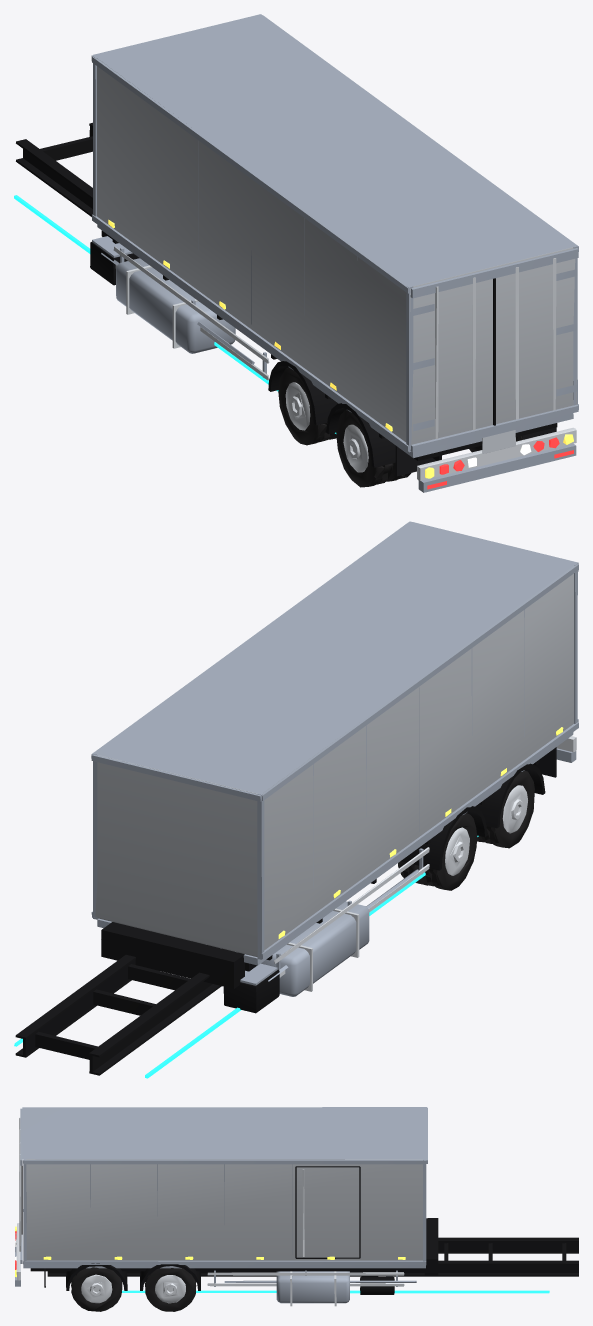
File: body_alubox_lod1.glb
3 renders of one model, top to bottom at view 1: azimuth 30°, elevation 25°; view 2: azimuth 150°, elevation 25°; view 3: azimuth 270°, elevation 25°, orthographic. The views are drawn at different scales.
Visible parts, largest first — view 1: lod1_steel, lod1_box_alu, lod1_chrome, lod1_plastic_black, lod1_rubber_tire, lod1_lamp_cyan, lod1_rubber; view 2: lod1_box_alu, lod1_steel, lod1_plastic_black, lod1_chrome, lod1_rubber_tire, lod1_lamp_cyan; view 3: lod1_box_alu, lod1_steel, lod1_plastic_black, lod1_chrome, lod1_rubber_tire, lod1_lamp_cyan.
Boxes of the visible parts, x1,y1,x2,y2 form: lod1_steel: (91, 14, 578, 492); lod1_box_alu: (97, 58, 576, 444); lod1_chrome: (113, 246, 576, 480); lod1_plastic_black: (16, 122, 557, 467); lod1_rubber_tire: (278, 367, 522, 487); lod1_lamp_cyan: (14, 195, 336, 433); lod1_rubber: (395, 427, 556, 476); lod1_box_alu: (95, 573, 573, 957); lod1_steel: (91, 521, 578, 996); lod1_plastic_black: (15, 760, 545, 1075); lod1_chrome: (274, 736, 576, 991); lod1_rubber_tire: (398, 770, 534, 890); lod1_lamp_cyan: (14, 835, 478, 1078); lod1_box_alu: (26, 1159, 422, 1260); lod1_steel: (15, 1107, 427, 1303); lod1_plastic_black: (21, 1166, 578, 1294); lod1_chrome: (16, 1117, 404, 1306); lod1_rubber_tire: (71, 1267, 196, 1311); lod1_lamp_cyan: (122, 1290, 549, 1293).
Size of the model in its own units: 2.77 by 3.46 by 11.48.
11 materials, 1 textured.
